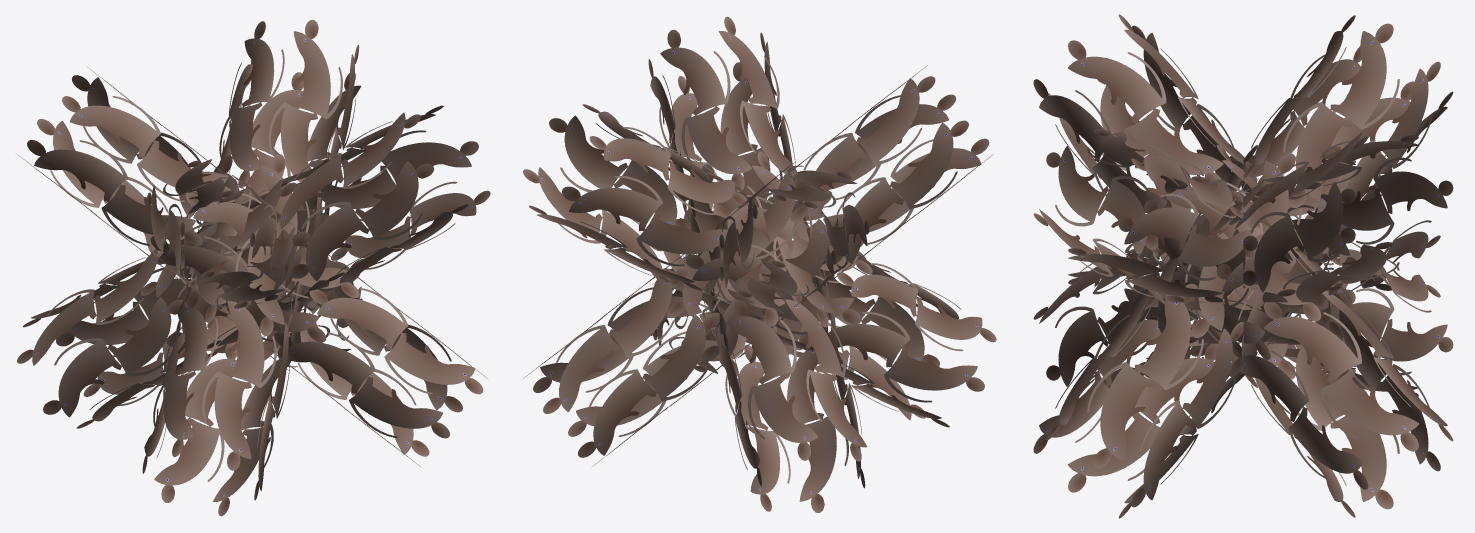
The model's file is Hexahemioctacron28.gltf.
The picture shows the model from 3 angles, left to right: view 1: azimuth 30°, elevation 25°; view 2: azimuth 150°, elevation 25°; view 3: azimuth 270°, elevation 25°; orthographic projection. The views are drawn at different scales.
Parts seen in each view (by area): view 1: Hexahemioctacron1; view 2: Hexahemioctacron1; view 3: Hexahemioctacron1.
Part boxes in pixels (<box>): Hexahemioctacron1: <box>17,20,490,516</box>; Hexahemioctacron1: <box>523,16,996,512</box>; Hexahemioctacron1: <box>1033,14,1453,518</box>.
Size of the model in its own units: 6.25 by 6.25 by 6.25.
Materials: 1 (1 with a texture image).
